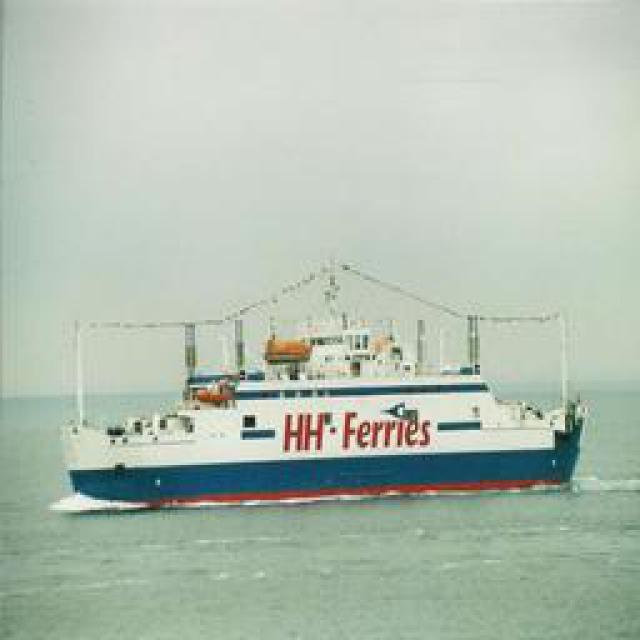Ship: (59, 299, 599, 512)
